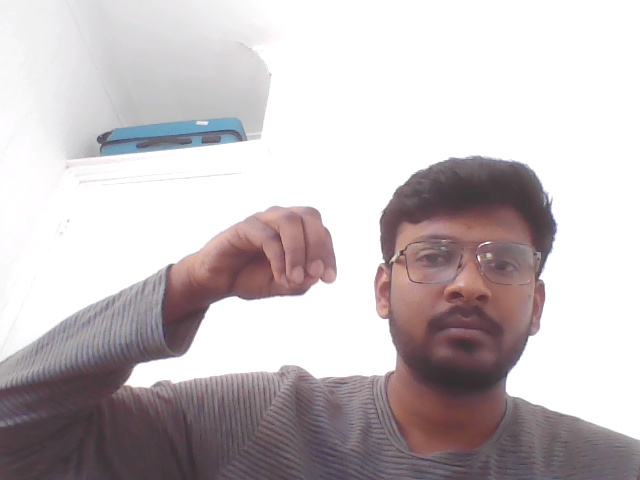Yes: (139, 167, 352, 343)
